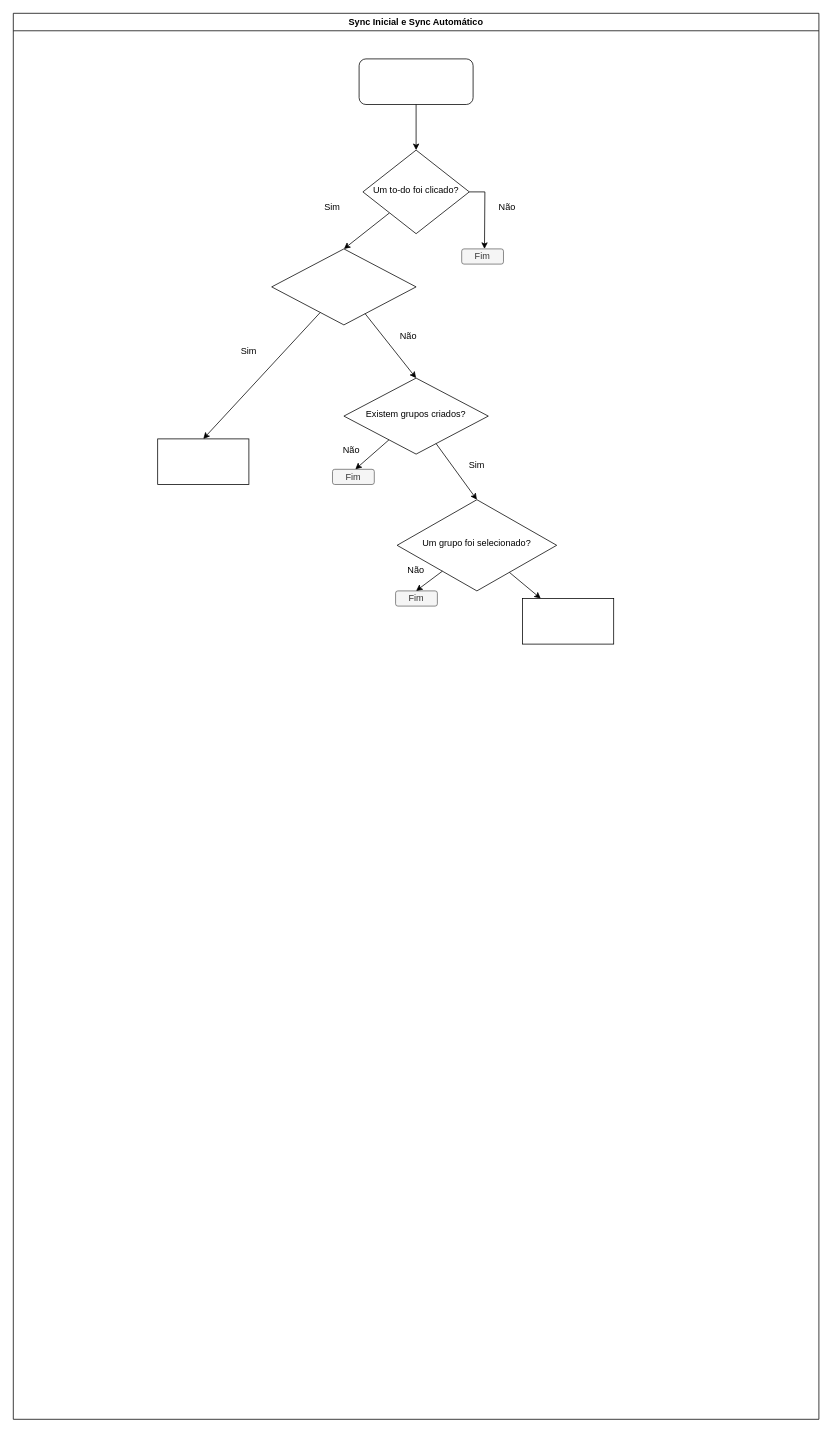
Image size: 832x1433. Some labels were removed from this diagram. The centre of each missing label's shape, as x and y in pixels:
A opção "Criar novo Grupo" foi clicada?: pixel 343 286
Adicionar to-do ao grupo selecionado: pixel 568 621
Aplicação em funcionamento com to-dos na listagem: pixel 415 81
Criar um novo grupo: pixel 203 461
